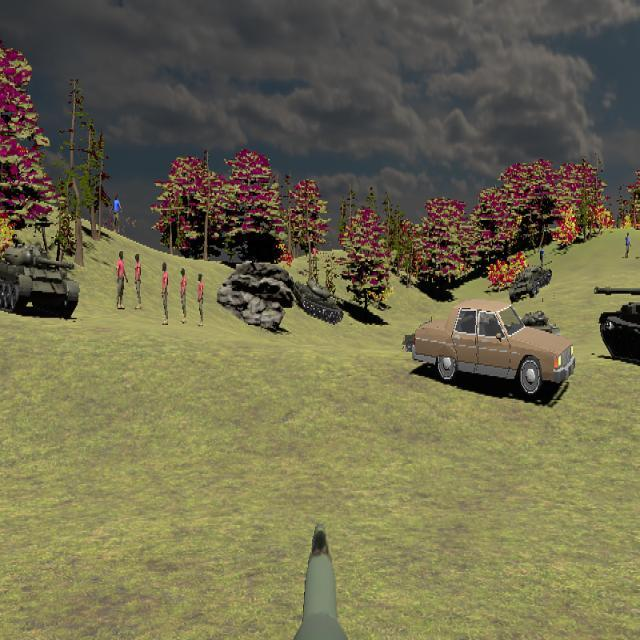Human: (116, 251, 128, 310), (160, 262, 169, 325), (134, 253, 143, 310), (179, 267, 188, 324), (196, 273, 205, 327)
Tank: (0, 243, 80, 319), (593, 273, 640, 373), (292, 279, 359, 325), (514, 262, 553, 288), (509, 271, 539, 302)
car: (410, 301, 577, 397)
